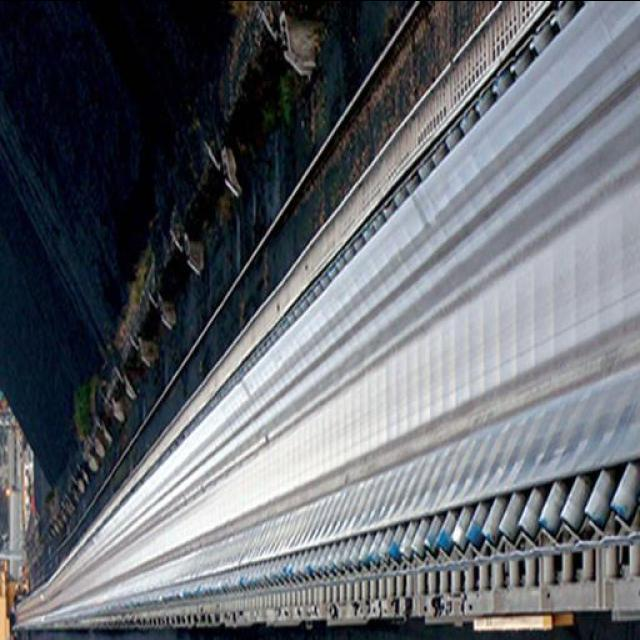conveyor: (12, 0, 640, 630)
